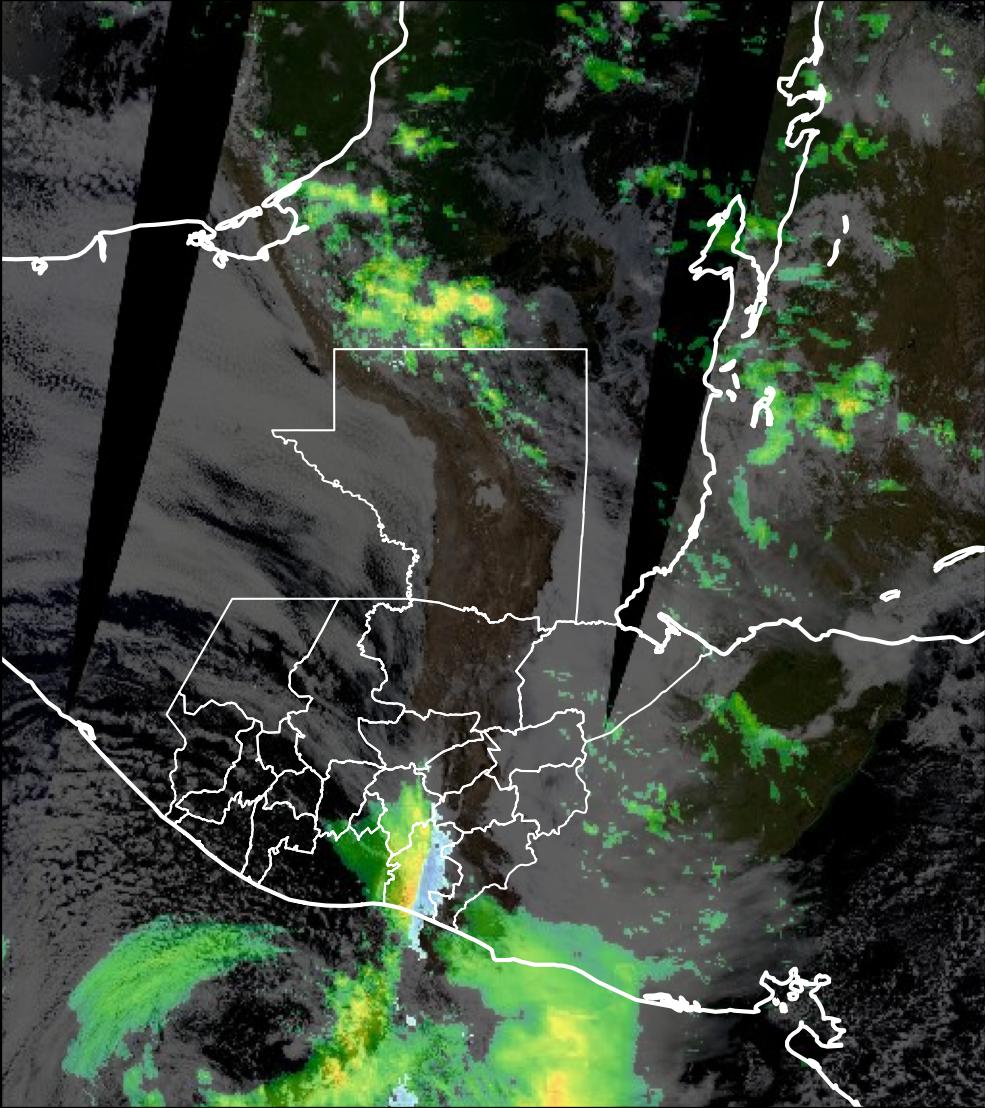precipitacion: (533, 1062, 610, 1108)
